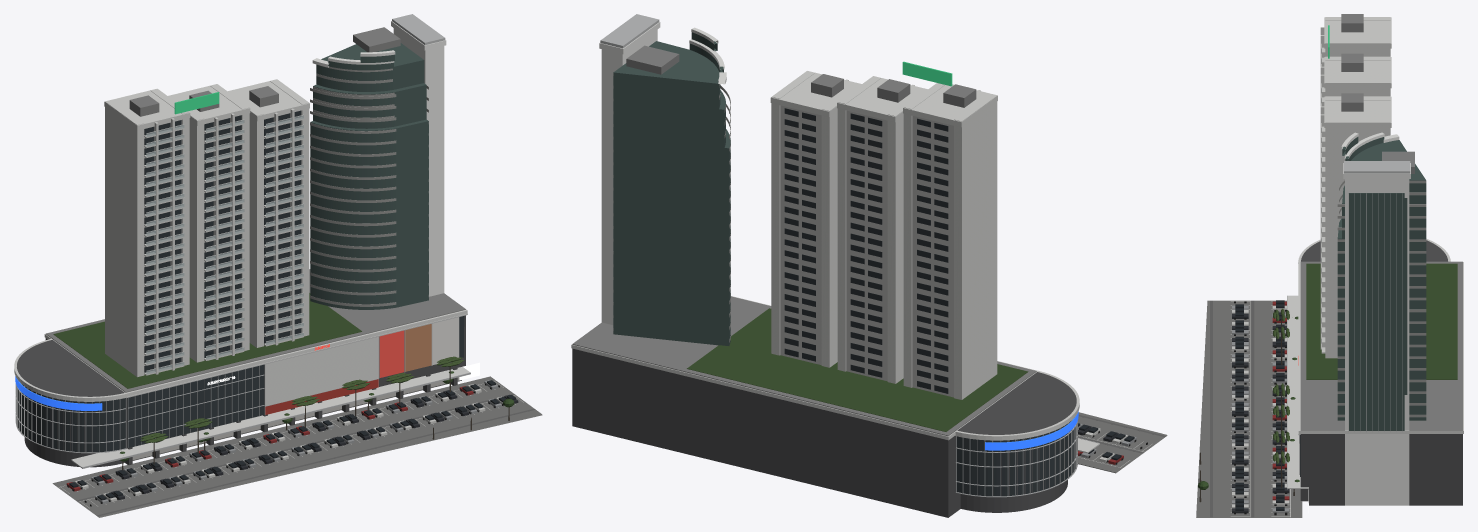
3 views of the same model, side by side, from view 1: azimuth 30°, elevation 25°; view 2: azimuth 150°, elevation 25°; view 3: azimuth 270°, elevation 25° (orthographic). The views are drawn at different scales.
Parts seen in each view (by area): view 1: YK_RES_res_pier, YK_HOTEL_hotel_glass, YK_SITE_paving, YK_RES_res_glass, YK_POD_pod_glass, YK_POD_pod_white, YK_RES_res_rail, YK_POD_pod_stone, YK_HOTEL_hotel_band, YK_POD_pod_alu, YK_HOTEL_hotel_pier, YK_POD_grass (+17 smaller); view 2: YK_POD_pod_stone, YK_RES_res_pier, YK_HOTEL_hotel_glass, YK_RES_res_wall, YK_RES_res_glass, YK_POD_grass, YK_POD_concrete, YK_POD_pod_glass, YK_HOTEL_hotel_pier, YK_POD_pod_white, YK_POD_pod_alu, YK_SITE_paving (+5 smaller); view 3: YK_HOTEL_hotel_glass, YK_SITE_paving, YK_RES_res_pier, YK_HOTEL_hotel_pier, YK_POD_pod_stone, YK_POD_grass, YK_POD_concrete, YK_POD_pod_white, YK_CTX_car_glass, YK_HOTEL_hotel_fin, YK_HOTEL_hotel_band, YK_SITE_paving_d (+10 smaller).
Part boxes in pixels (x1,y1,x2,y2): YK_RES_res_pier: [104, 79, 309, 377]; YK_HOTEL_hotel_glass: [310, 43, 428, 309]; YK_SITE_paving: [52, 376, 542, 517]; YK_RES_res_glass: [144, 110, 301, 372]; YK_POD_pod_glass: [18, 316, 464, 452]; YK_POD_pod_white: [14, 309, 469, 467]; YK_RES_res_rail: [146, 115, 303, 374]; YK_POD_pod_stone: [17, 315, 465, 467]; YK_HOTEL_hotel_band: [310, 65, 428, 306]; YK_POD_pod_alu: [15, 314, 470, 468]; YK_HOTEL_hotel_pier: [312, 21, 446, 296]; YK_POD_grass: [53, 293, 361, 388]; YK_POD_pod_stone: [572, 348, 1076, 517]; YK_RES_res_pier: [770, 71, 997, 399]; YK_HOTEL_hotel_glass: [613, 32, 730, 345]; YK_RES_res_wall: [780, 105, 953, 397]; YK_RES_res_glass: [784, 108, 948, 393]; YK_POD_grass: [687, 308, 1028, 431]; YK_POD_concrete: [572, 296, 1036, 436]; YK_POD_pod_glass: [956, 421, 1075, 496]; YK_HOTEL_hotel_pier: [599, 21, 726, 324]; YK_POD_pod_white: [571, 296, 1099, 453]; YK_POD_pod_alu: [955, 420, 1099, 497]; YK_SITE_paving: [1078, 412, 1167, 473]; YK_HOTEL_hotel_glass: [1337, 137, 1426, 430]; YK_SITE_paving: [1196, 300, 1302, 517]; YK_RES_res_pier: [1320, 17, 1391, 358]; YK_HOTEL_hotel_pier: [1341, 132, 1410, 505]; YK_POD_pod_stone: [1300, 240, 1462, 505]; YK_POD_grass: [1306, 263, 1457, 379]; YK_POD_concrete: [1300, 261, 1462, 430]; YK_POD_pod_white: [1287, 238, 1463, 488]; YK_CTX_car_glass: [1235, 300, 1284, 510]; YK_HOTEL_hotel_fin: [1348, 193, 1402, 432]; YK_HOTEL_hotel_band: [1337, 180, 1426, 417]; YK_SITE_paving_d: [1210, 300, 1254, 517].
Bounding box in the file's own units: 139 × 103 × 72.57.
Materials: 36 (5 with a texture image).
